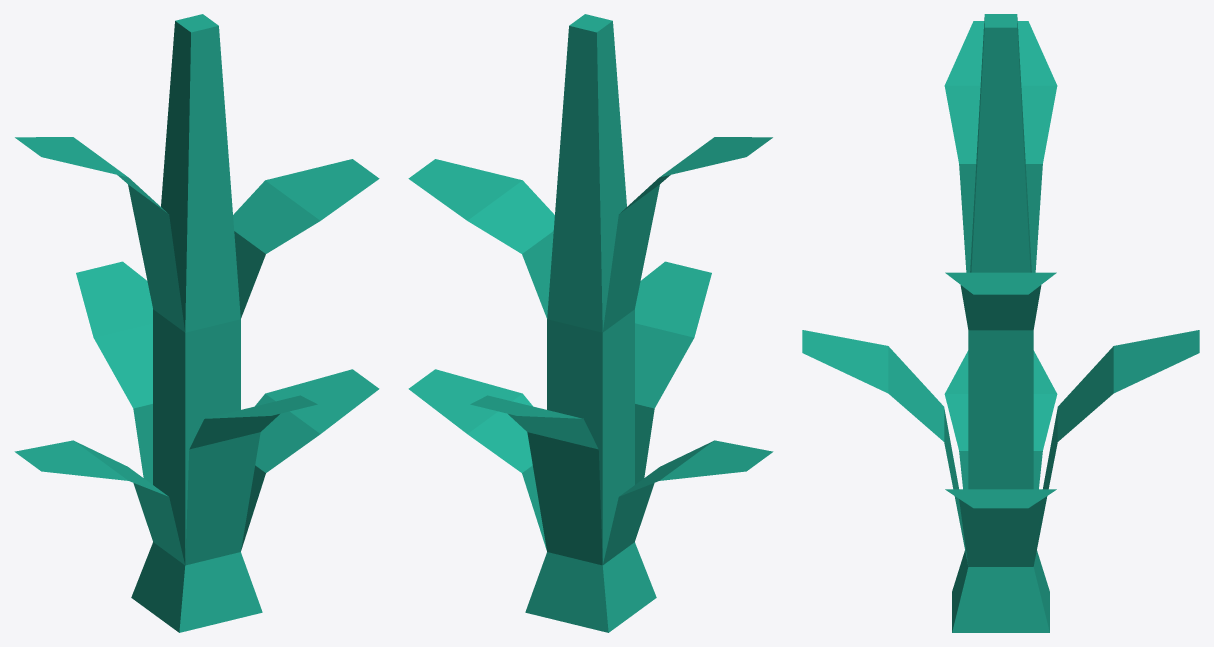
The model's file is crops_cornStageA.glb.
3 renders of one model, left to right at view 1: azimuth 30°, elevation 25°; view 2: azimuth 150°, elevation 25°; view 3: azimuth 270°, elevation 25°, orthographic.
Parts seen in each view (by area): view 1: crops_cornStageA; view 2: crops_cornStageA; view 3: crops_cornStageA.
Part boxes in pixels (x1,y1,x2,y2): crops_cornStageA: (14,14,379,632); crops_cornStageA: (408,14,773,632); crops_cornStageA: (802,14,1199,632).
Size of the model in its own units: 0.3534 by 0.5808 by 0.3534.
